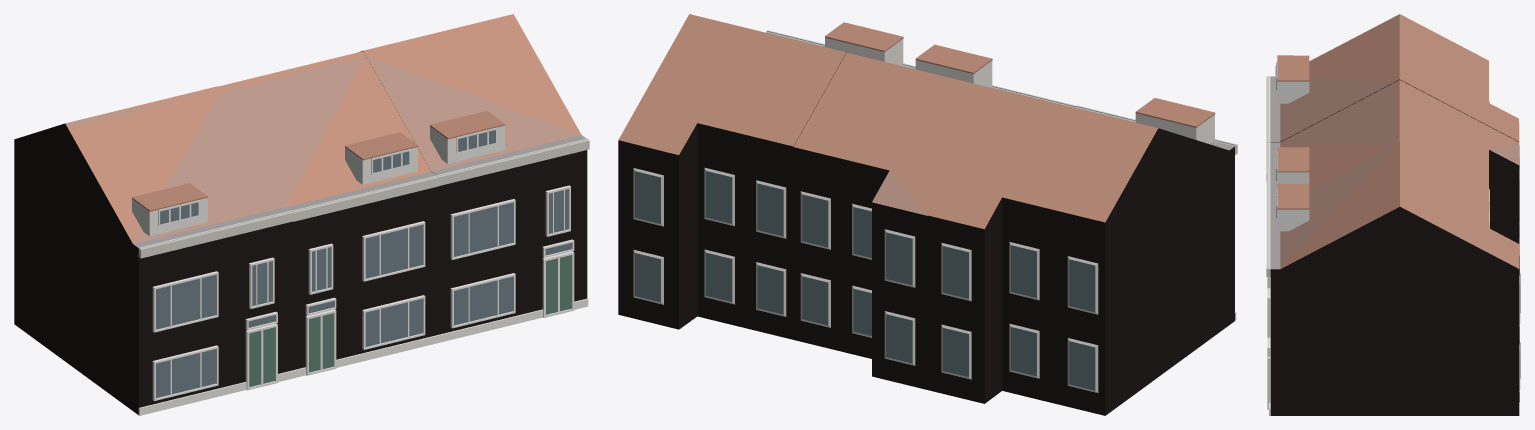
File: chunk-face-meeuwenplein-41-45.glb
3 views of the same model, side by side, from view 1: azimuth 30°, elevation 25°; view 2: azimuth 150°, elevation 25°; view 3: azimuth 270°, elevation 25° (orthographic). The views are drawn at different scales.
Parts seen in each view (by area): view 1: face-meeuwenplein-41-45; view 2: face-meeuwenplein-41-45; view 3: face-meeuwenplein-41-45.
Part boxes in pixels (x1=…): face-meeuwenplein-41-45: x1=14, y1=14, x2=589, y2=415; face-meeuwenplein-41-45: x1=618, y1=14, x2=1237, y2=415; face-meeuwenplein-41-45: x1=1266, y1=14, x2=1520, y2=415.
Bounding box in the file's own units: 18.9 × 9.59 × 10.54.
